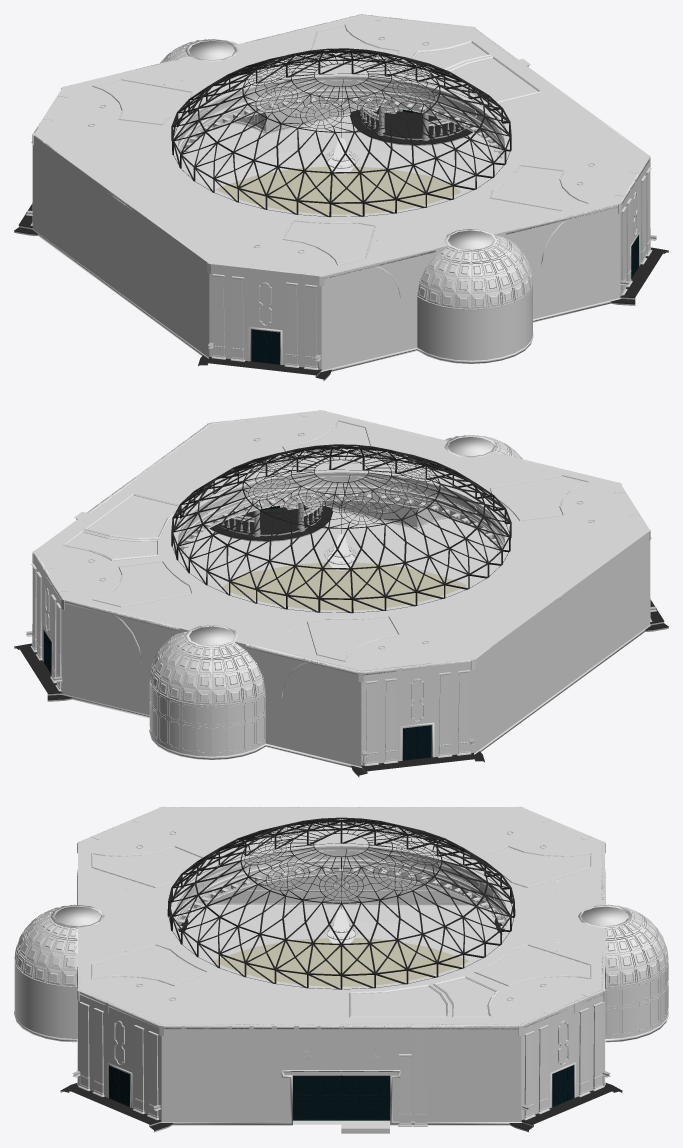
Rendered from Ethniko_001.gltf.
The picture shows the model from 3 angles, top to bottom: view 1: azimuth 30°, elevation 25°; view 2: azimuth 150°, elevation 25°; view 3: azimuth 270°, elevation 25°; orthographic projection.
Visible parts, largest first — view 1: External_Walls, Roof_001, Circle.046, Circle.058, Circle.034, Small_Side_Domes, Quarter_Columns, Circle.027, Circle.035, Floor_Trimming, Circle.036, Circle.052 (+10 smaller); view 2: External_Walls, Roof_001, Circle.034, Circle.046, Circle.058, Small_Side_Domes, Quarter_Columns, Circle.027, Floor_Trimming, Plane.097, Circle.036, Circle.057 (+10 smaller); view 3: External_Walls, Roof_001, Circle.034, Circle.058, Small_Side_Domes, Circle.046, Quarter_Columns, Main_Enrance, Floor_Trimming, Circle.035, Plane.097, Circle.052 (+12 smaller).
Boxes of the visible parts, <box> form: External_Walls: <box>32,14,650,370</box>; Roof_001: <box>171,48,511,217</box>; Circle.046: <box>174,75,508,215</box>; Circle.058: <box>216,166,461,214</box>; Circle.034: <box>181,114,501,332</box>; Small_Side_Domes: <box>160,39,532,309</box>; Quarter_Columns: <box>30,105,652,370</box>; Circle.027: <box>14,108,668,381</box>; Circle.035: <box>195,149,486,191</box>; Floor_Trimming: <box>32,108,639,371</box>; Circle.036: <box>179,95,503,154</box>; Circle.052: <box>92,24,590,265</box>; External_Walls: <box>32,410,650,766</box>; Roof_001: <box>171,444,511,613</box>; Circle.034: <box>182,510,501,728</box>; Circle.046: <box>175,471,508,611</box>; Circle.058: <box>221,562,466,610</box>; Small_Side_Domes: <box>150,435,522,705</box>; Quarter_Columns: <box>30,501,652,766</box>; Circle.027: <box>14,504,668,777</box>; Floor_Trimming: <box>43,504,650,767</box>; Plane.097: <box>33,411,621,675</box>; Circle.036: <box>180,491,503,550</box>; Circle.057: <box>149,681,265,753</box>; External_Walls: <box>14,807,668,1121</box>; Roof_001: <box>167,817,515,989</box>; Circle.034: <box>182,906,500,1124</box>; Circle.058: <box>214,938,469,1075</box>; Small_Side_Domes: <box>14,904,668,987</box>; Circle.046: <box>171,845,511,987</box>; Quarter_Columns: <box>78,1002,604,1120</box>; Main_Enrance: <box>292,1075,390,1120</box>; Floor_Trimming: <box>14,903,668,1125</box>; Circle.035: <box>341,921,490,1133</box>; Plane.097: <box>78,807,604,1029</box>; Circle.052: <box>91,845,591,986</box>.
Size of the model in its own units: 38.56 by 13.12 by 45.46.
